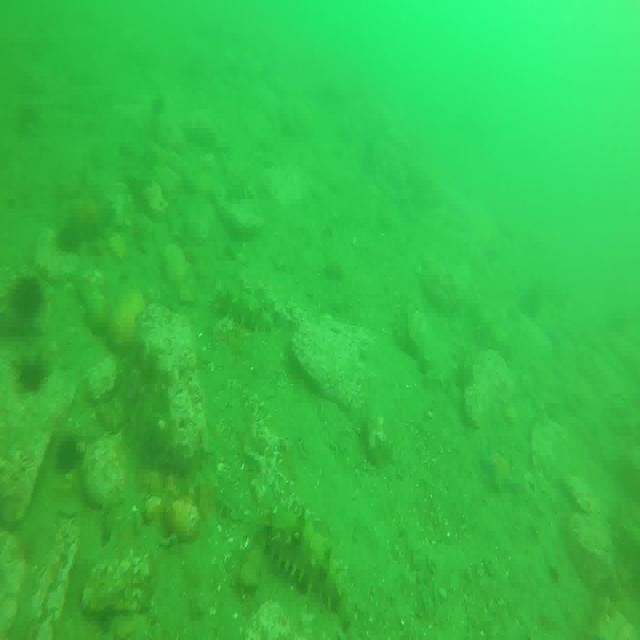echinus: (10, 268, 43, 320), (55, 430, 83, 468), (22, 352, 49, 388)
holothurian: (256, 505, 338, 608), (214, 280, 274, 334)
